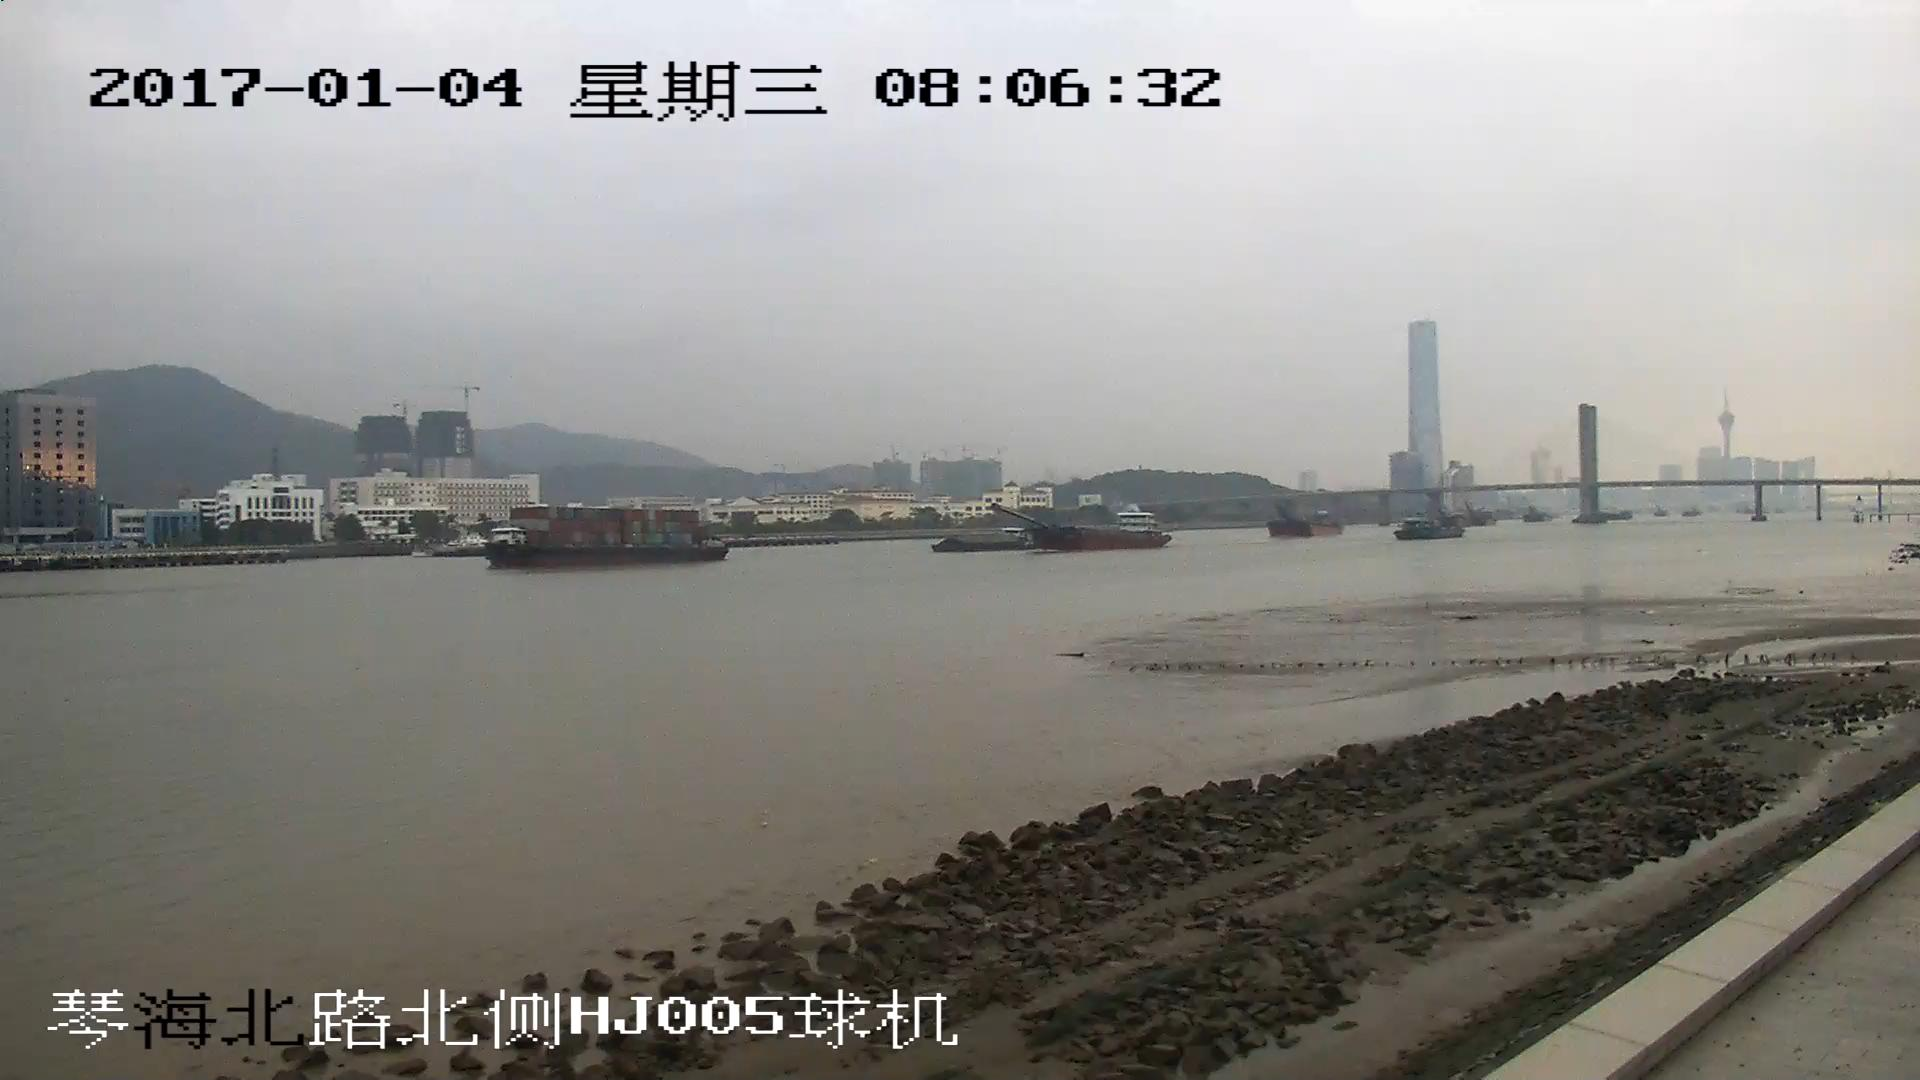bulk cargo carrier: (995, 507, 1166, 552)
container ship: (484, 503, 728, 566)
